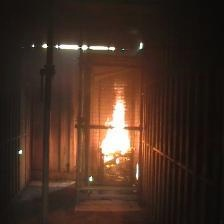fire: (100, 79, 135, 160)
